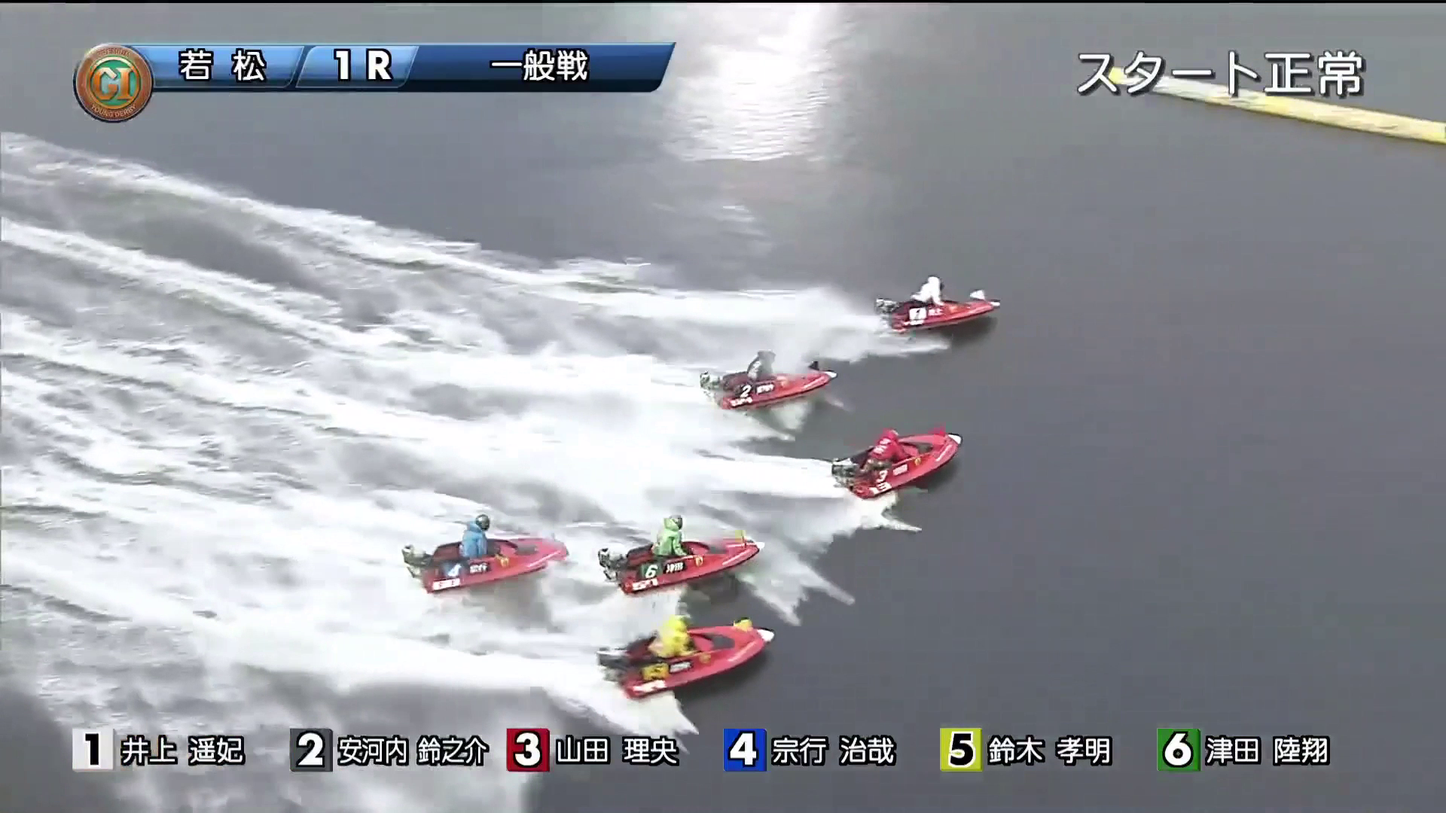１号艇: (899, 283, 1036, 336)
２号艇: (696, 353, 825, 413)
３号艇: (846, 446, 986, 492)
４号艇: (628, 521, 748, 587)
５号艇: (411, 533, 535, 588)
６号艇: (645, 638, 744, 695)
